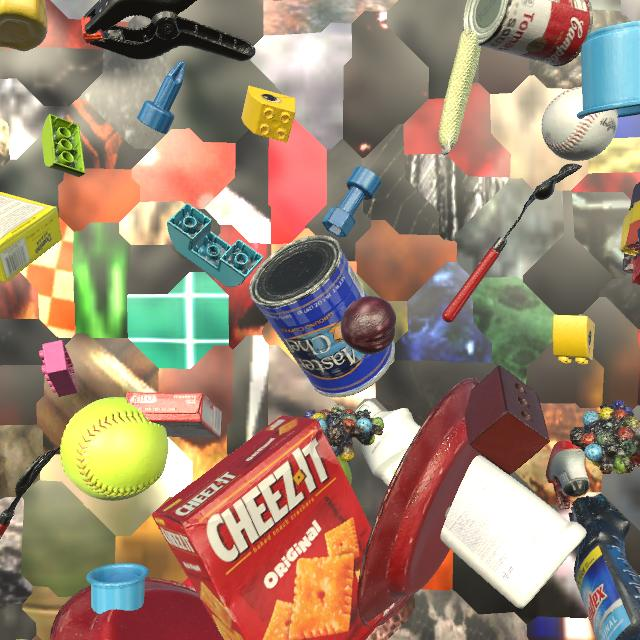ycb_002_master_chef_can: (249, 235, 395, 398)
ycb_003_cracker_box: (152, 415, 402, 640)
ycb_004_sugar_box: (0, 192, 62, 283)
ycb_005_tomato_soup_can: (463, 0, 593, 66)
ycb_006_mustard_bottle: (0, 0, 48, 51)
ycb_009_gelatin_box: (126, 392, 222, 438)
ycb_016_pear: (337, 455, 352, 485)
ycb_018_plum: (341, 296, 396, 354)
